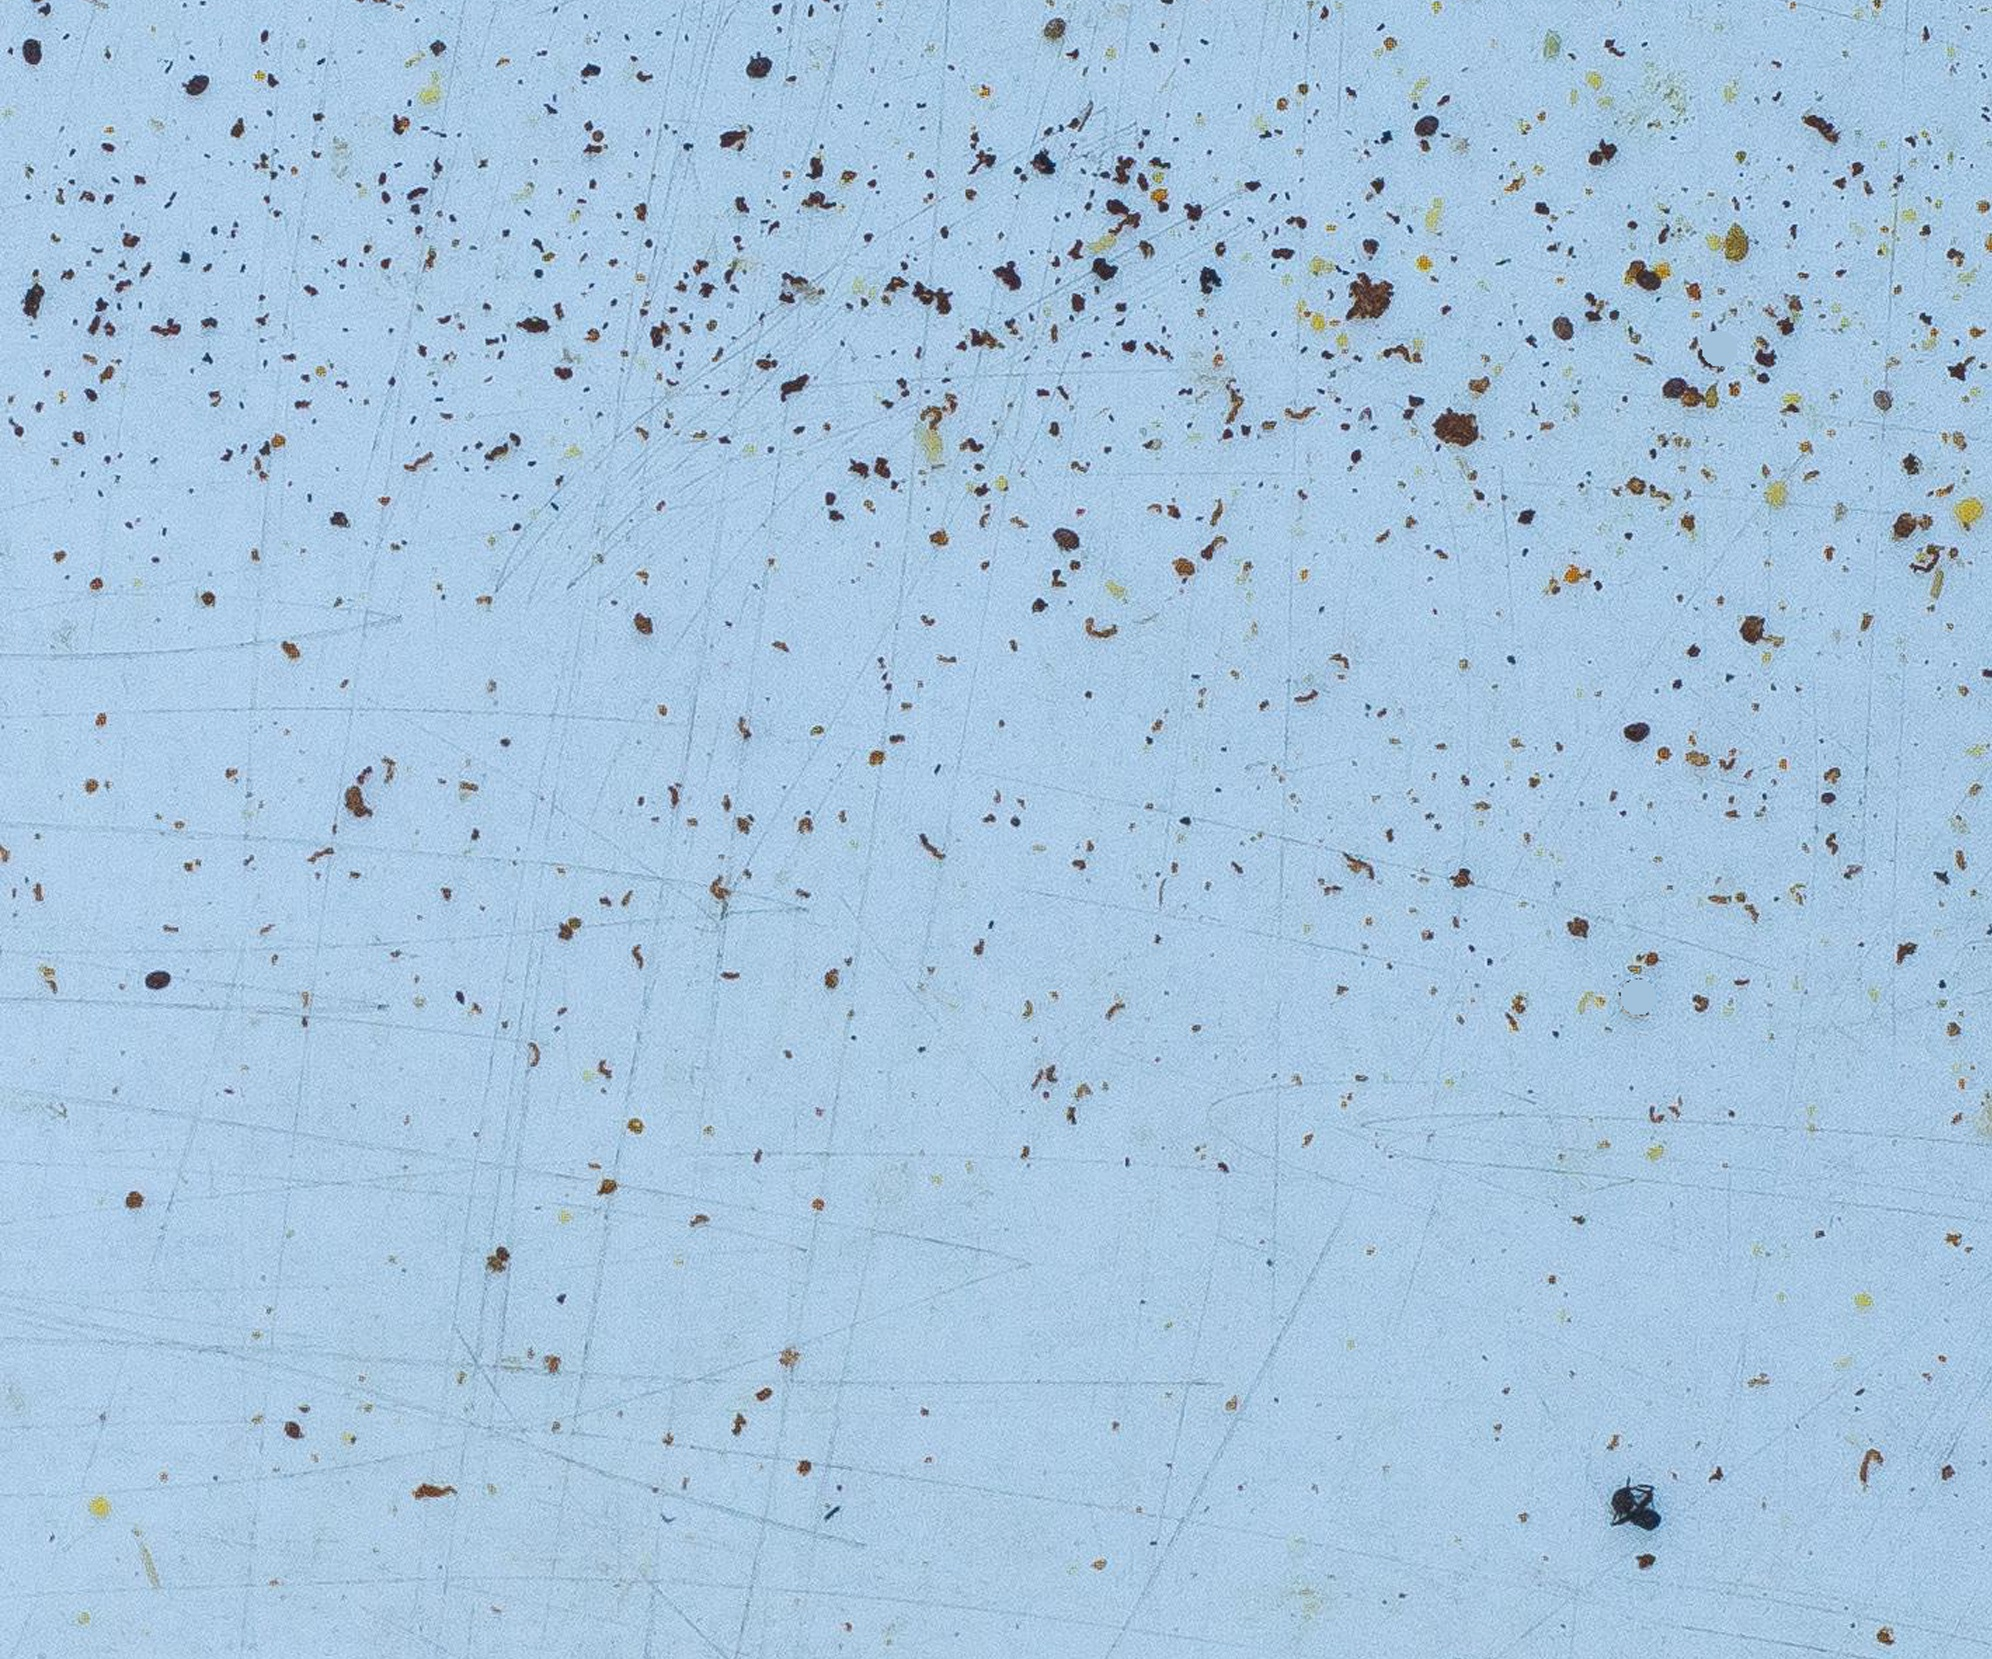Varroa: (1535, 313, 1573, 354), (1049, 519, 1087, 561), (1658, 369, 1698, 405), (1410, 104, 1444, 141), (1861, 377, 1894, 415), (1039, 10, 1074, 45), (1630, 256, 1664, 291), (17, 35, 48, 73), (1621, 715, 1654, 749), (141, 964, 174, 997), (180, 68, 213, 101), (741, 48, 774, 79), (1693, 349, 1721, 375)
